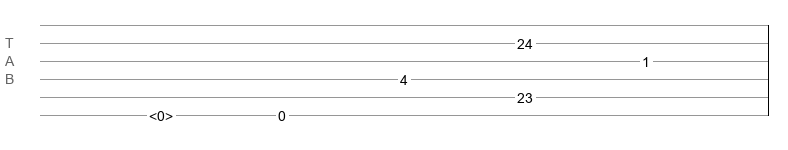0: (278, 108, 286, 118)
1: (642, 54, 650, 64)
23: (517, 90, 533, 100)
24: (517, 36, 533, 46)
4: (400, 72, 408, 82)
harmonic: (149, 108, 173, 118)
